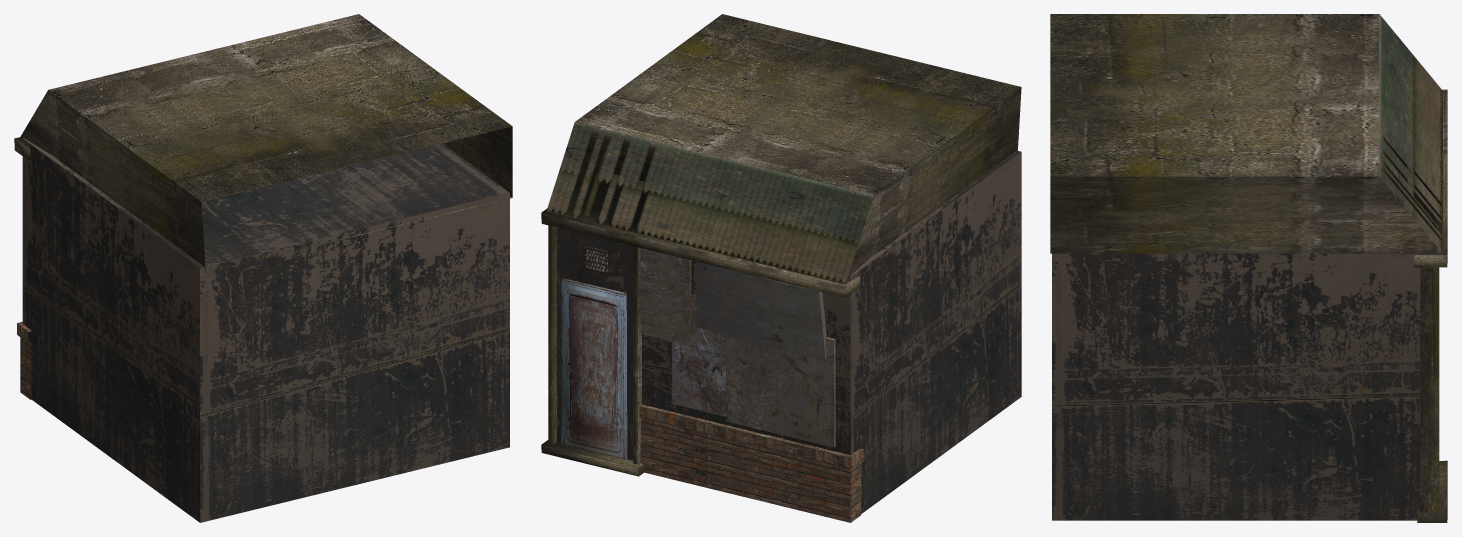
File: building001.FBX
3 views of the same model, side by side, from view 1: azimuth 30°, elevation 25°; view 2: azimuth 150°, elevation 25°; view 3: azimuth 270°, elevation 25° (orthographic). The views are drawn at different scales.
Parts seen in each view (by area): view 1: Object002; view 2: Object002; view 3: Object002.
Part boxes in pixels (box(x1,y1,x2,y2)): Object002: box(14, 14, 512, 522); Object002: box(541, 14, 1021, 522); Object002: box(1050, 14, 1447, 522).
Size of the model in its own units: 66.31 by 63.9 by 66.8.
